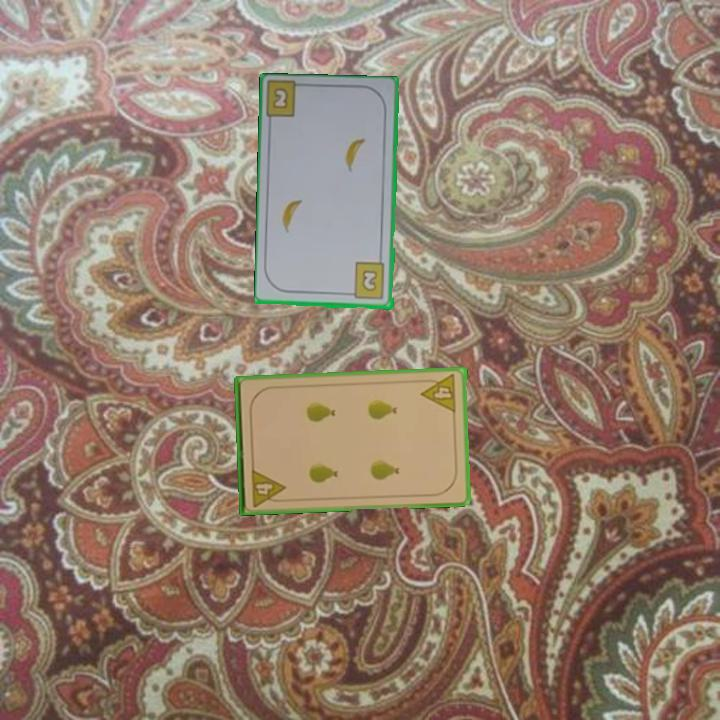2b: (345, 260, 388, 302), (272, 87, 290, 110)
4p: (418, 371, 459, 416), (248, 465, 288, 510)
